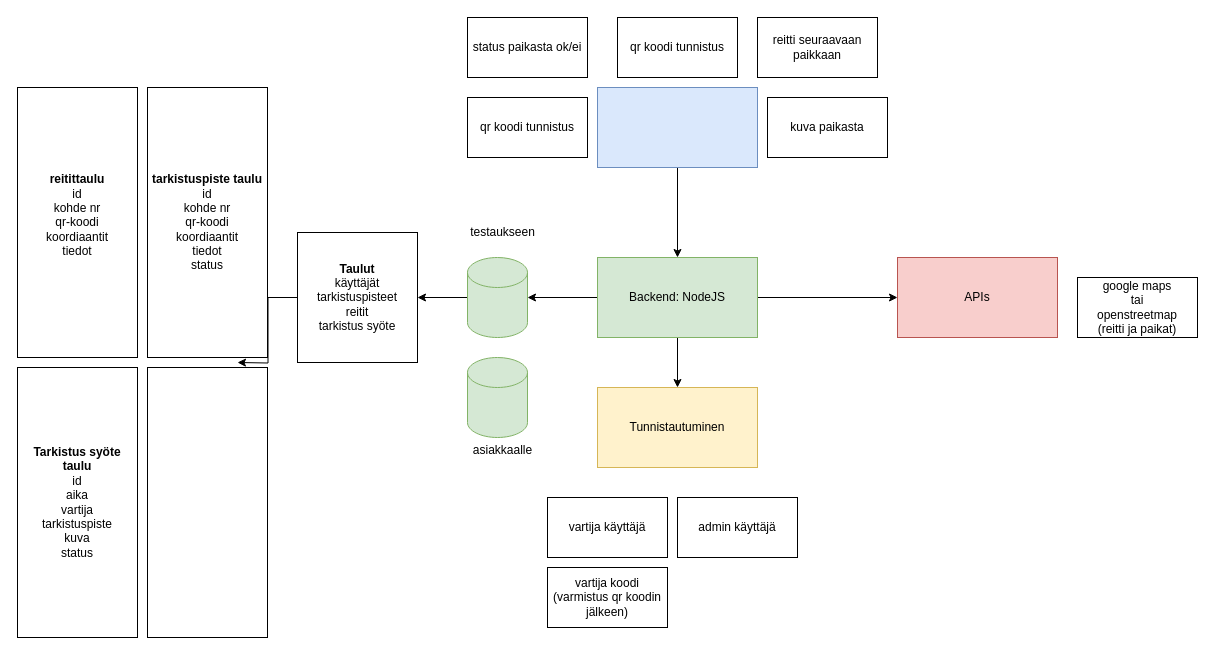
Image size: 1215x655. Some labels were removed from this diagram. The shapes that lost their labels are listed below. From the top down, each one's centre as x and y in pixels, then its label:
At pixel 677 127: "frontend: React Native".
At pixel 497 297: "MongoDB tietokanta".
At pixel 497 397: "MySql tietokanta".
At pixel 207 502: "Käyttäjätaulu id nimi käyttäjätunnus salasana vartijakoodi isAdmin".
